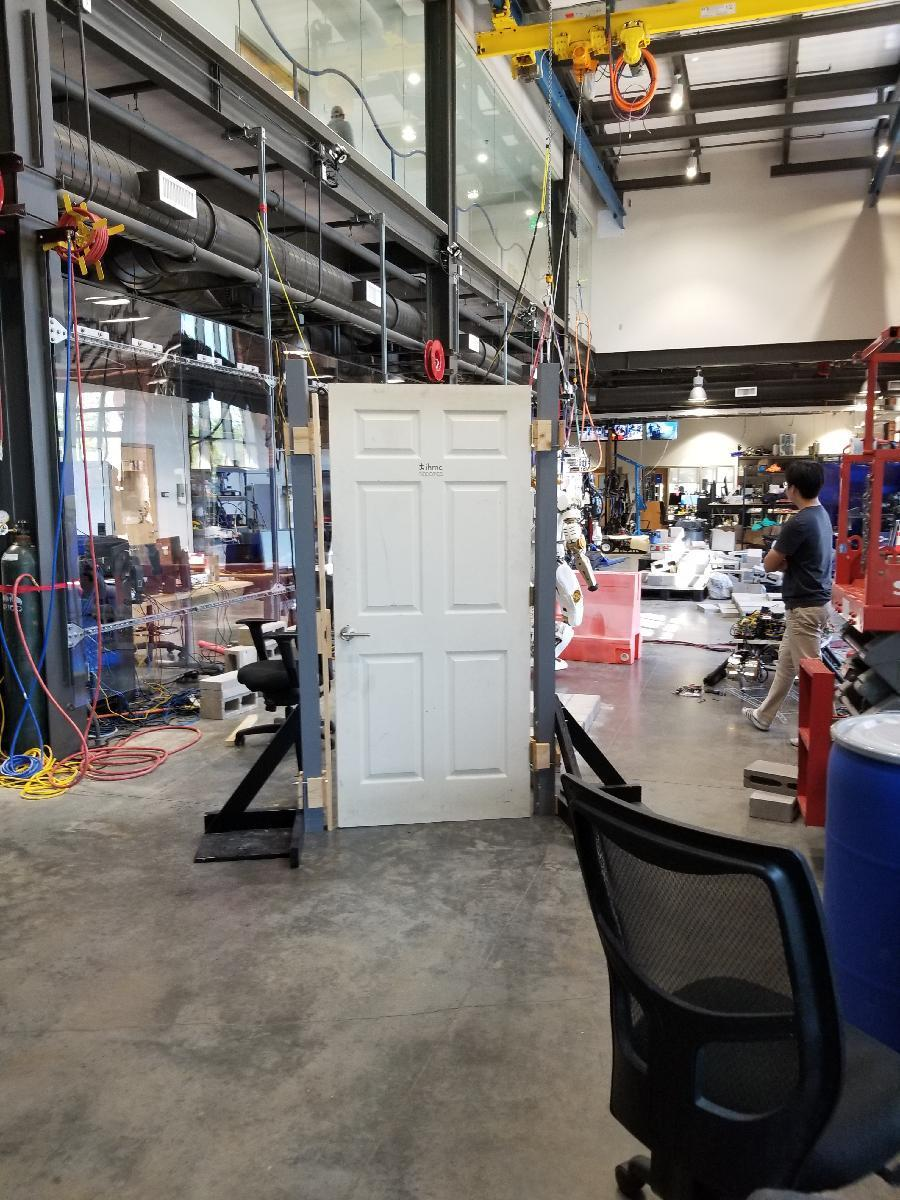door: (328, 383, 536, 827)
handle: (338, 623, 374, 645)
